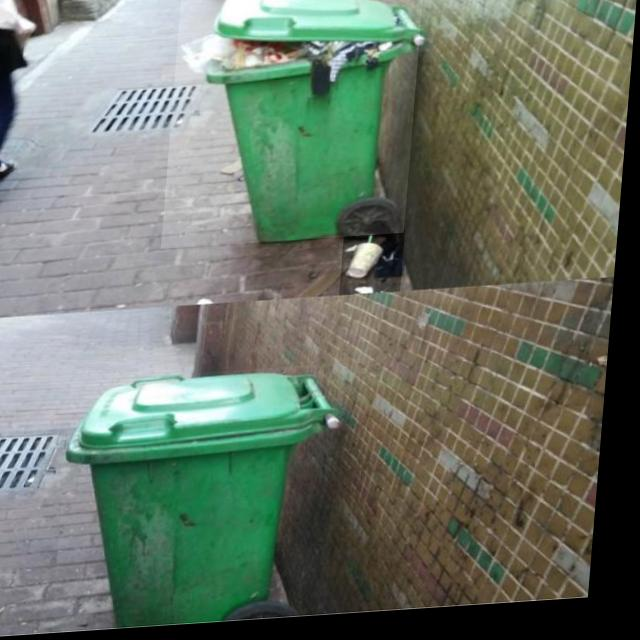garbage: (344, 236, 410, 301)
garbage_bin: (63, 368, 353, 633)
overflow: (165, 0, 425, 252)
